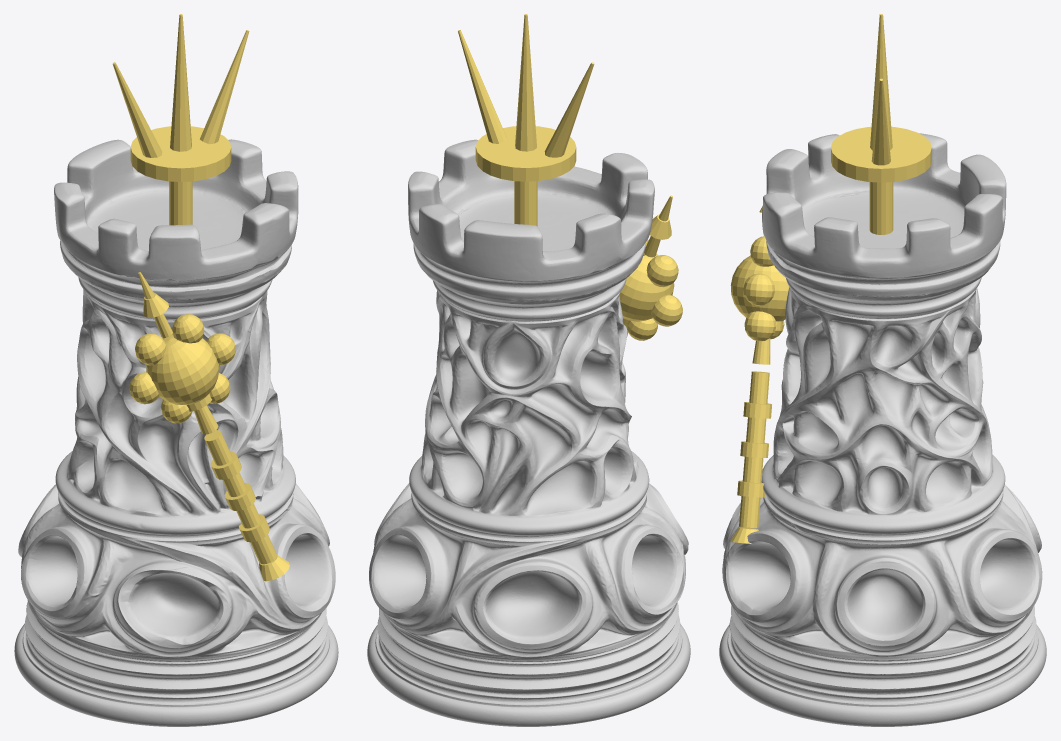
The model's file is Rook - Parliament.glb.
3 views of the same model, side by side, from view 1: azimuth 30°, elevation 25°; view 2: azimuth 150°, elevation 25°; view 3: azimuth 270°, elevation 25° (orthographic).
Parts seen in each view (by area): view 1: obj_9_wieza, Mace3D, Trident3D; view 2: obj_9_wieza, Trident3D, Mace3D; view 3: obj_9_wieza, Mace3D, Trident3D.
Part boxes in pixels (bbox=[...]): obj_9_wieza: bbox=[14, 139, 338, 726]; Mace3D: bbox=[129, 272, 289, 581]; Trident3D: bbox=[112, 14, 249, 225]; obj_9_wieza: bbox=[367, 139, 690, 726]; Trident3D: bbox=[458, 14, 594, 226]; Mace3D: bbox=[619, 195, 682, 340]; obj_9_wieza: bbox=[719, 133, 1046, 726]; Mace3D: bbox=[730, 206, 789, 543]; Trident3D: bbox=[831, 14, 931, 234].
Size of the model in its own units: 0.481 by 1.06 by 0.4857.
